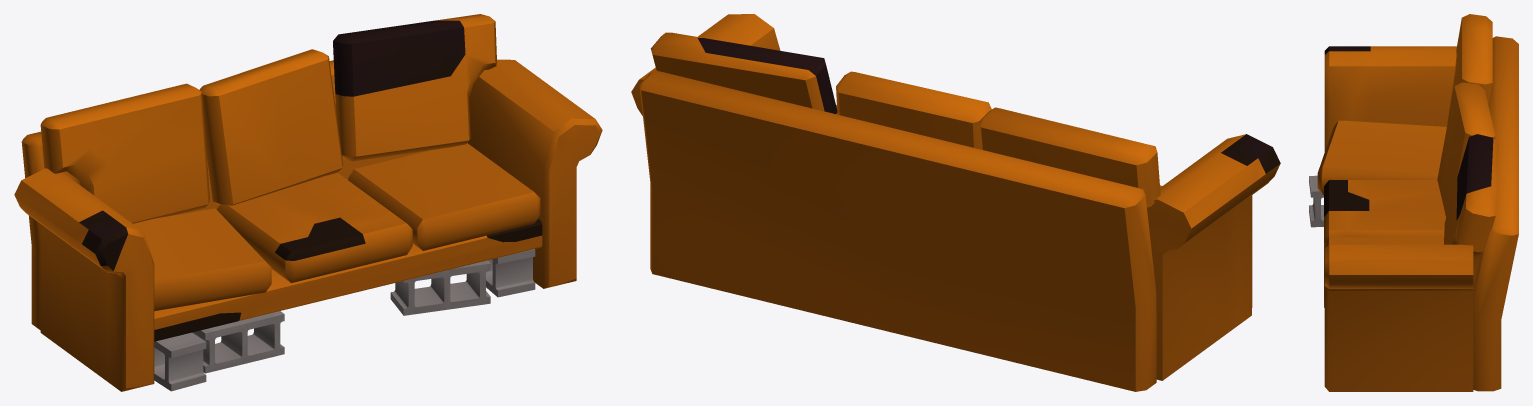
The model's file is Couch.glb.
The picture shows the model from 3 angles, left to right: view 1: azimuth 30°, elevation 25°; view 2: azimuth 150°, elevation 25°; view 3: azimuth 270°, elevation 25°; orthographic projection. The views are drawn at different scales.
Visible parts, largest first — view 1: Couch; view 2: Couch; view 3: Couch.
Part boxes in pixels (x1=…): Couch: x1=14, y1=14, x2=602, y2=391; Couch: x1=631, y1=14, x2=1280, y2=391; Couch: x1=1309, y1=14, x2=1518, y2=391.
Size of the model in its own units: 3.01 by 1.24 by 1.21.
